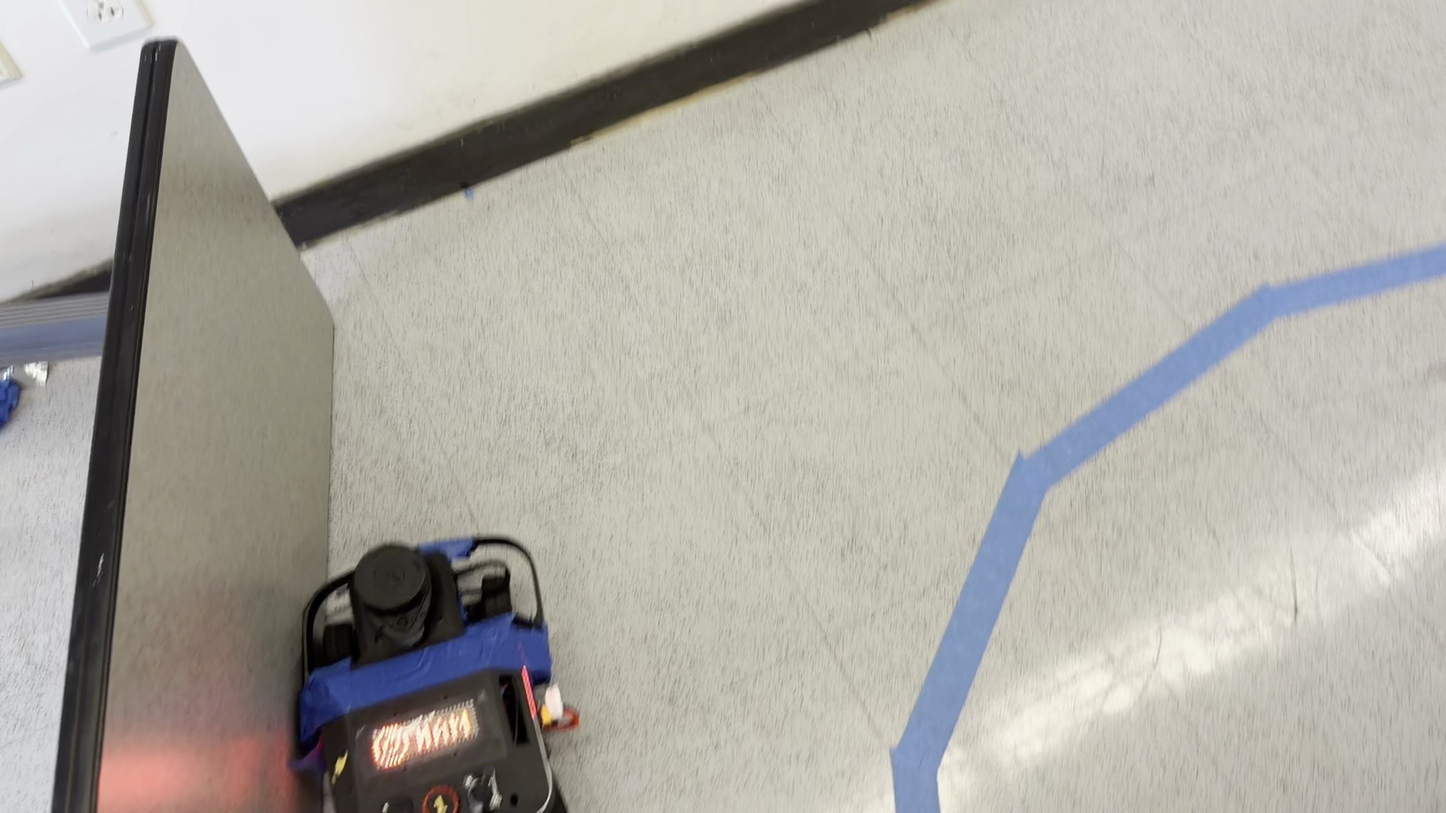racecar: (295, 533, 577, 810)
